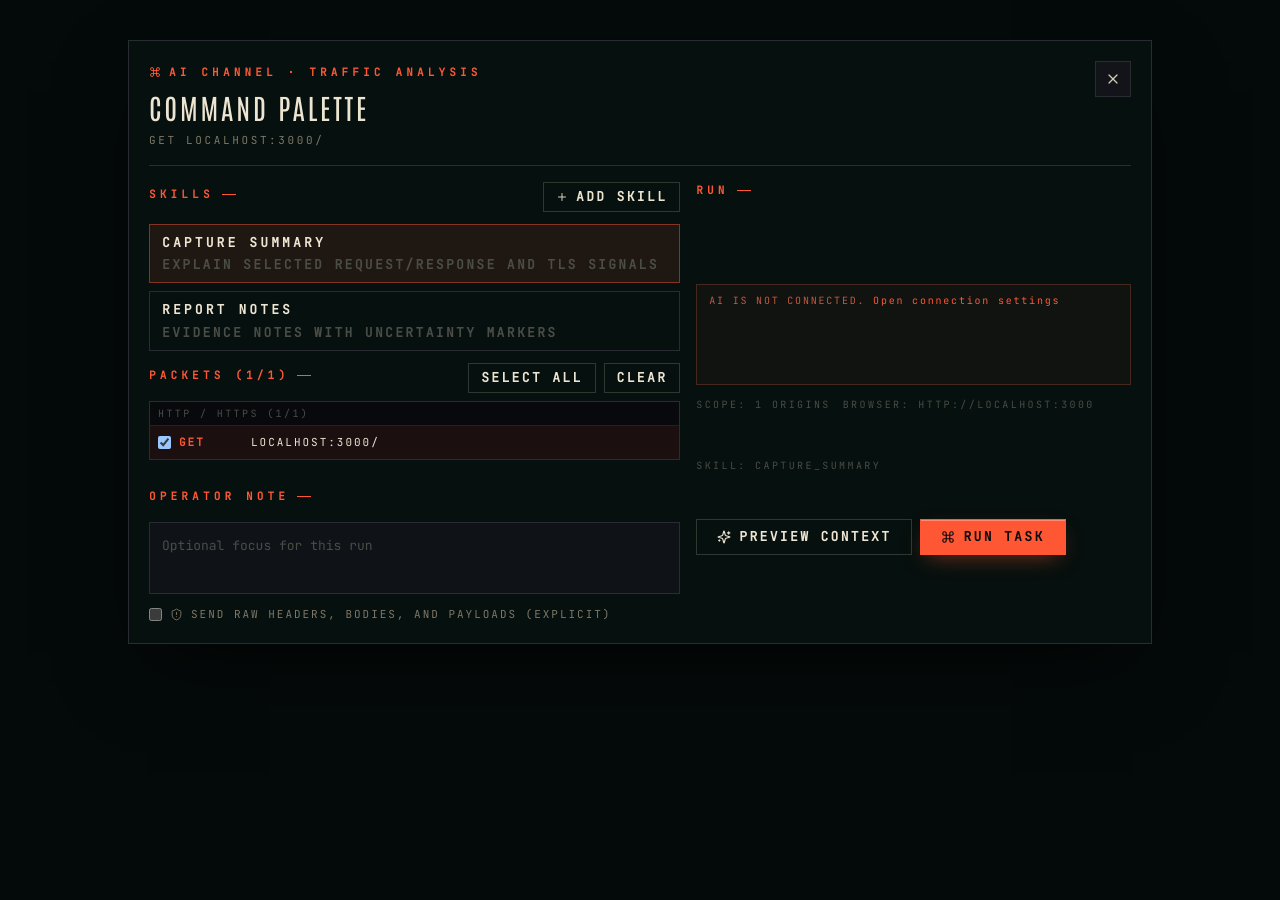
Test: CommandPalette › moves to preview after selecting a task
Click the text "Capture Summary": (244,242) left=162, top=234, right=326, bottom=251
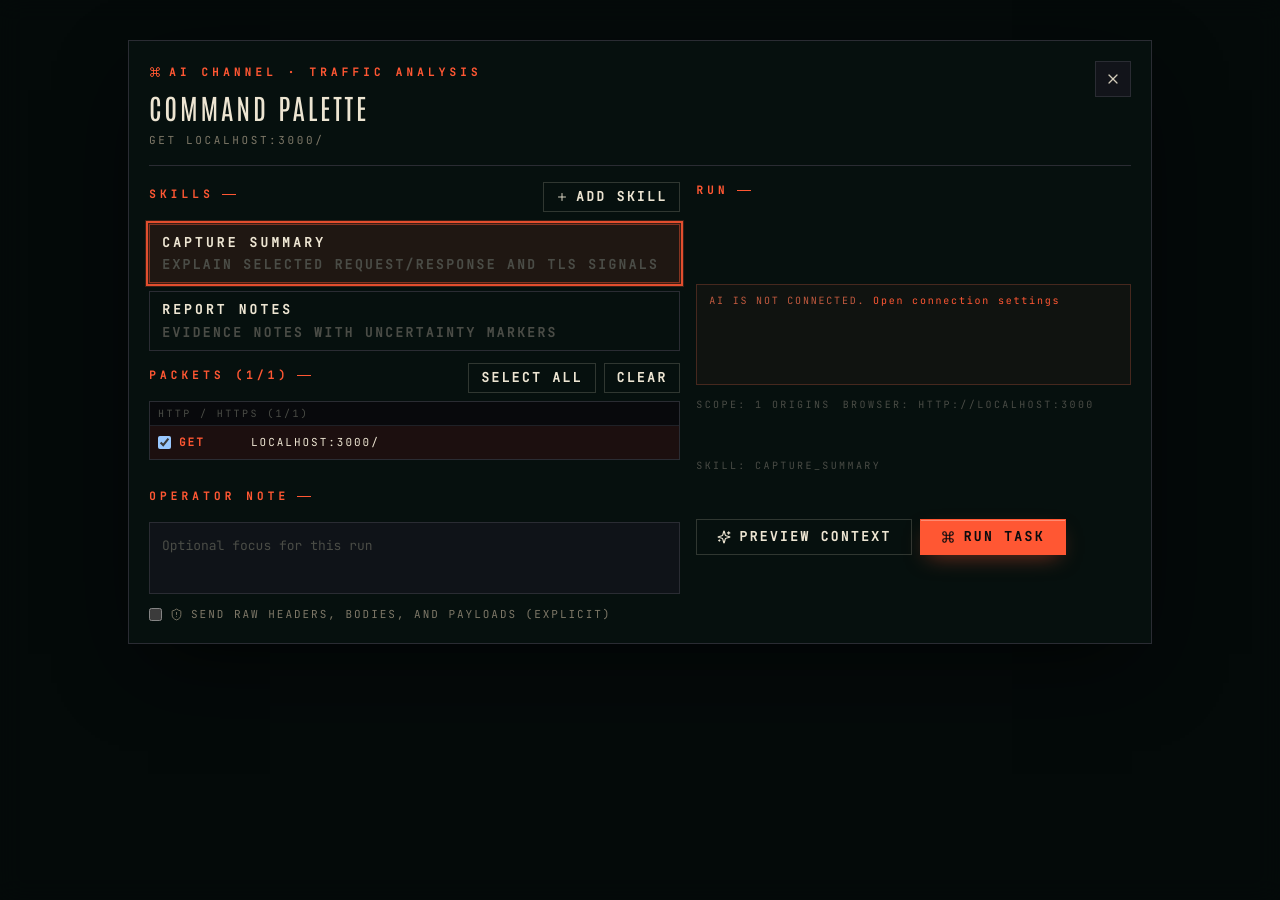
Click the button "Preview context": (804,537) left=696, top=519, right=912, bottom=555
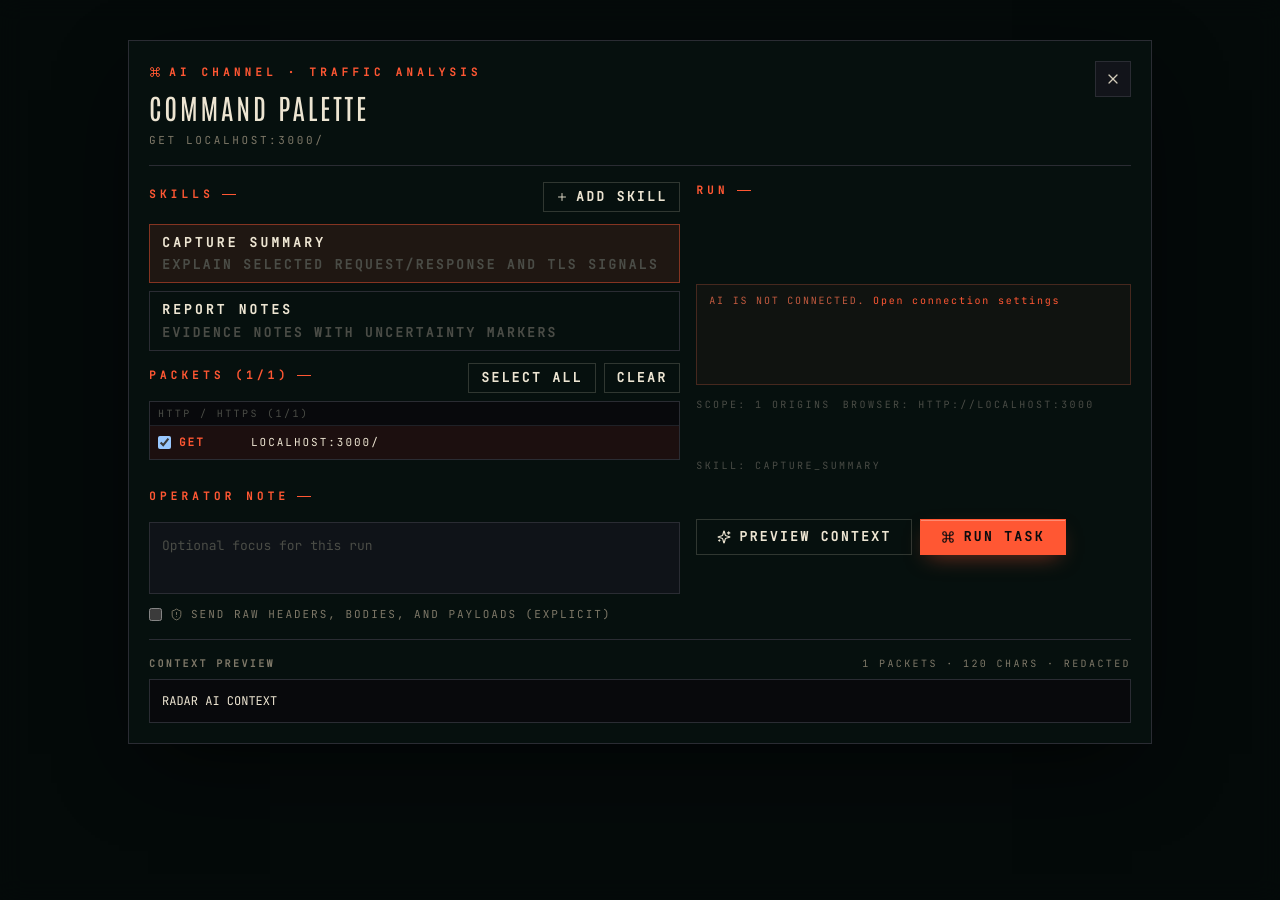
Expected: the text "Context preview" is shown, left=149, top=656, right=275, bottom=671
